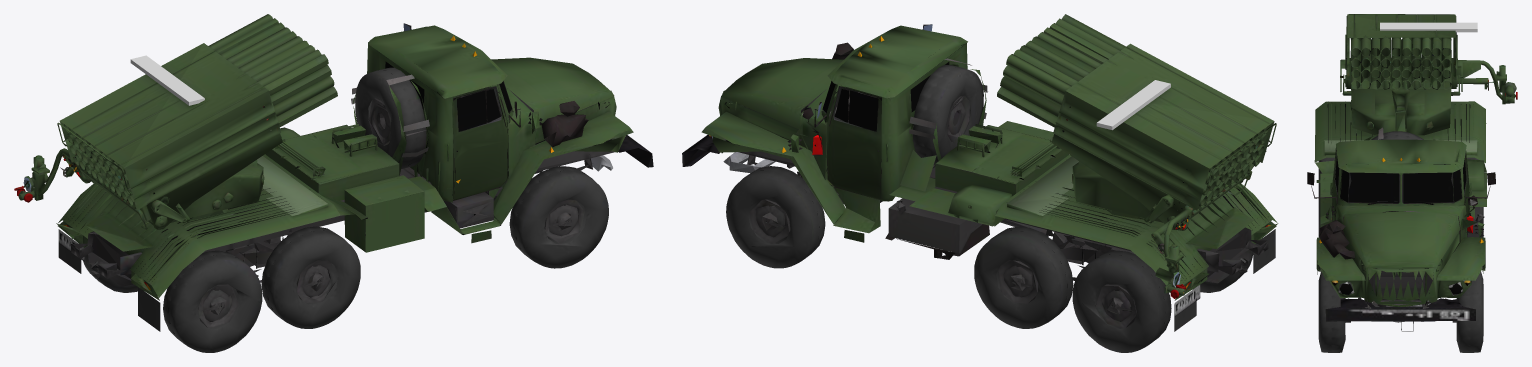
Rendered from grad.glb.
3 renders of one model, left to right at view 1: azimuth 30°, elevation 25°; view 2: azimuth 150°, elevation 25°; view 3: azimuth 270°, elevation 25°, orthographic. The views are drawn at different scales.
Parts seen in each view (by area): view 1: g_grad_hull, g_grad_turret; view 2: g_grad_hull, g_grad_turret; view 3: g_grad_hull, g_grad_turret.
Boxes of the visible parts, x1,y1,x2,y2 form: g_grad_hull: (56, 23, 653, 352); g_grad_turret: (14, 14, 337, 229); g_grad_hull: (682, 24, 1278, 352); g_grad_turret: (997, 14, 1276, 298); g_grad_hull: (1307, 101, 1495, 352); g_grad_turret: (1340, 14, 1517, 135).
Size of the model in its own units: 7.35 by 3.38 by 3.05.
3 materials, 2 textured.
